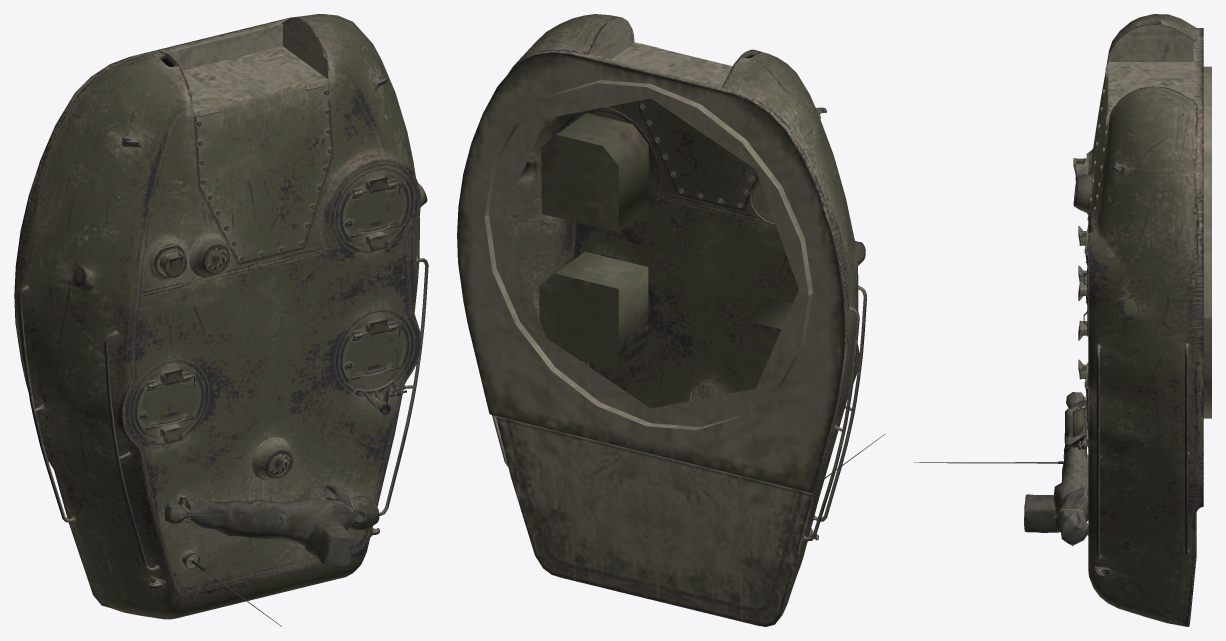
The model's file is Turret_02.glb.
3 renders of one model, left to right at view 1: azimuth 30°, elevation 25°; view 2: azimuth 150°, elevation 25°; view 3: azimuth 270°, elevation 25°, orthographic. The views are drawn at different scales.
Parts seen in each view (by area): view 1: set_0_group_0; view 2: set_0_group_0; view 3: set_0_group_0.
Boxes of the visible parts, box(x1,y1,x2,y2) form: set_0_group_0: box(14, 14, 428, 626); set_0_group_0: box(457, 14, 885, 626); set_0_group_0: box(914, 14, 1211, 626).
Size of the model in its own units: 3.03 by 4 by 2.06.
Materials: 1 (1 with a texture image).
